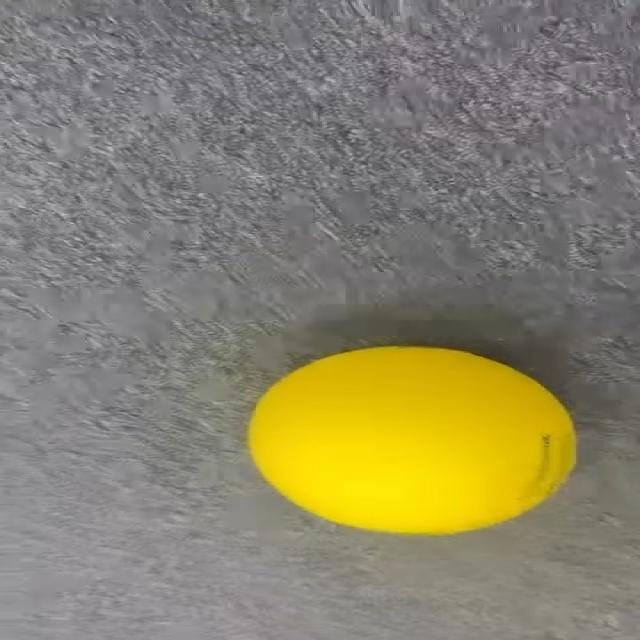Fuels: (249, 347, 572, 532)
